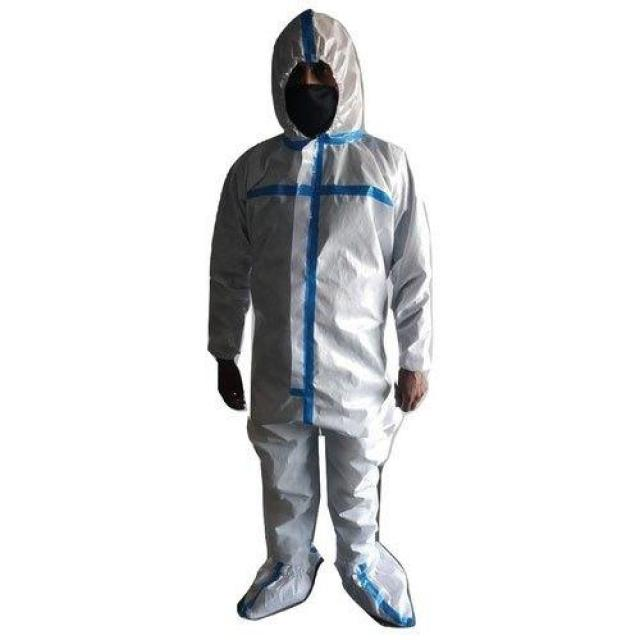Coverall: (204, 4, 438, 632)
Mask: (280, 85, 343, 135)
